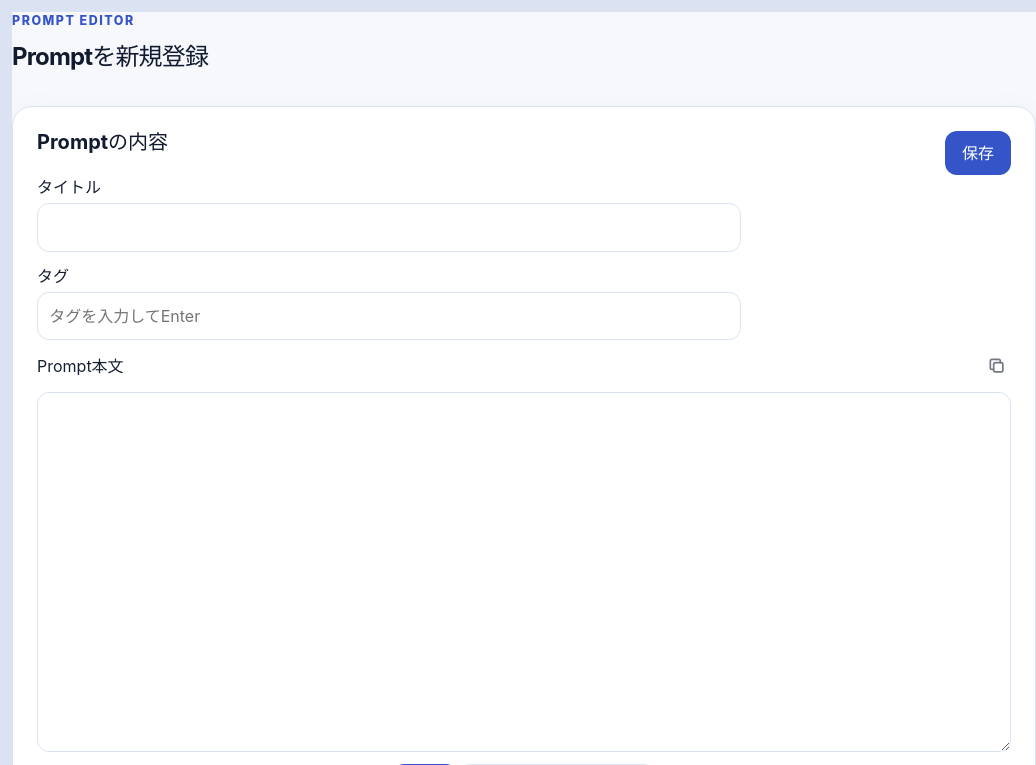
Test: PromptEditorPage › rejects duplicate tags and tags beyond the max count
This screenshot has width=1036, height=765.
In the field labelled "タグ": (389, 316) [37,292,741,340], type "dup"
Then press Enter
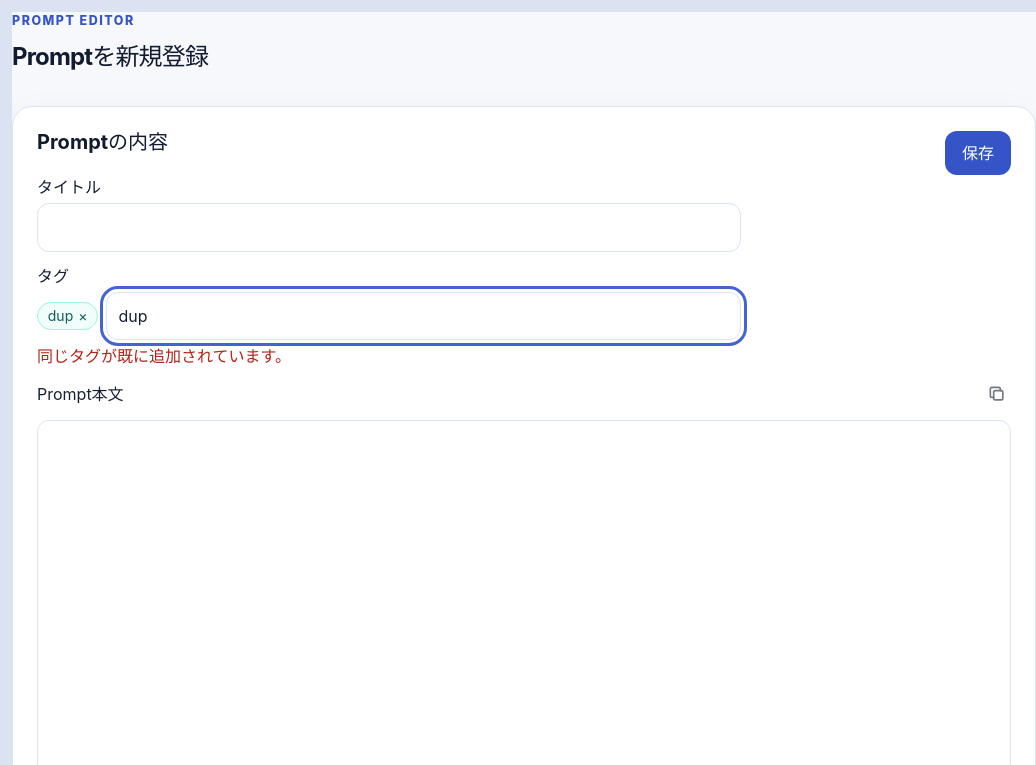
Check: the text "dup" is shown once, box [37,302,98,330]
Check: the text "同じタグが既に追加されています。" is shown, box [37,346,291,366]
